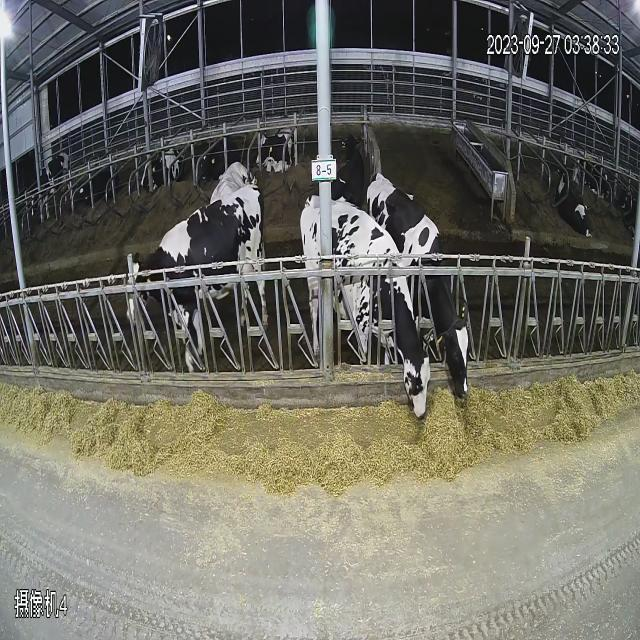feeding: (309, 194, 431, 433)
lying down: (248, 104, 298, 188), (556, 156, 596, 244)
standing: (122, 230, 274, 402)
